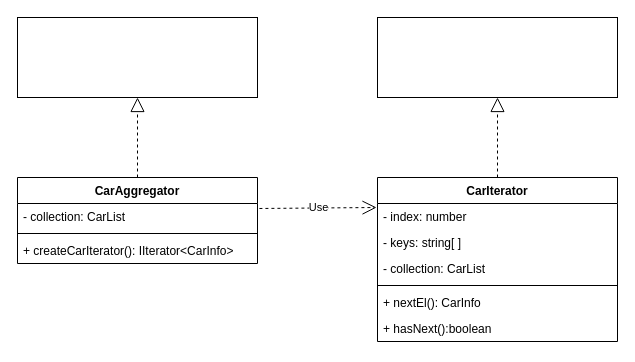
Some shapes in this 635 by 362 pixel diagram are drawn without their labels. Each missing label, with the box of its shape:
<<Interface>> ICarAggregator + createCarIterator():Iterator<CarInfo>: (16, 16, 258, 98)
<<Interface>> IIterator + nextEl(): + hasNext():boolean: (376, 16, 618, 98)
